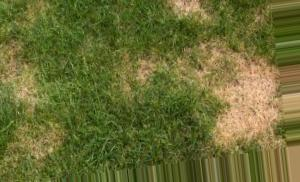patch: (243, 67, 271, 120), (17, 65, 40, 104), (222, 116, 244, 140), (218, 79, 233, 108), (27, 133, 48, 149), (179, 3, 196, 13)
